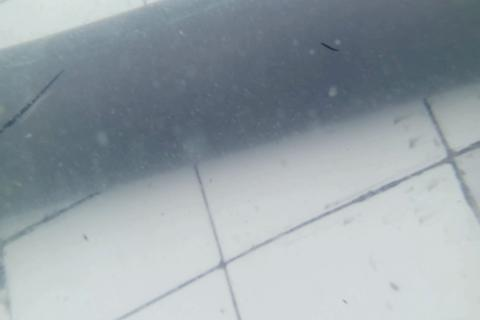keretakan: (0, 65, 64, 134)
